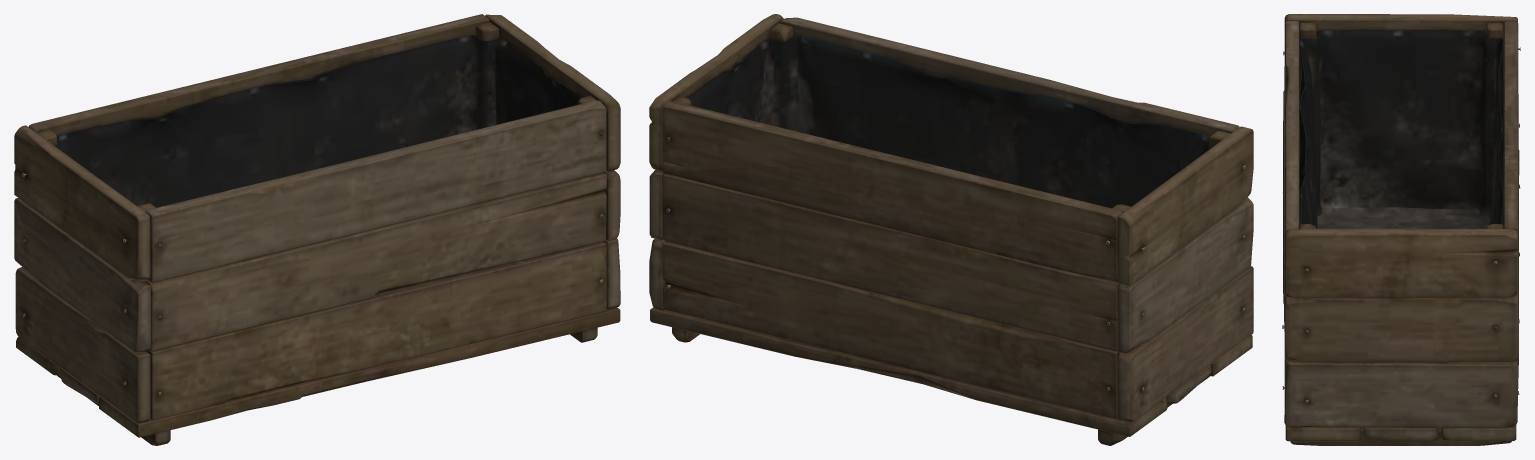
The model's file is planter_box_01.glb.
The picture shows the model from 3 angles, left to right: view 1: azimuth 30°, elevation 25°; view 2: azimuth 150°, elevation 25°; view 3: azimuth 270°, elevation 25°; orthographic projection. The views are drawn at different scales.
Visible parts, largest first — view 1: planter_box_01; view 2: planter_box_01; view 3: planter_box_01.
Part boxes in pixels (x1,y1,x2,y2): planter_box_01: (14,14,620,445); planter_box_01: (649,14,1253,445); planter_box_01: (1282,14,1520,445).
Bounding box in the file's own units: 0.9126 × 0.4249 × 0.4137.
1 material, 1 textured.
